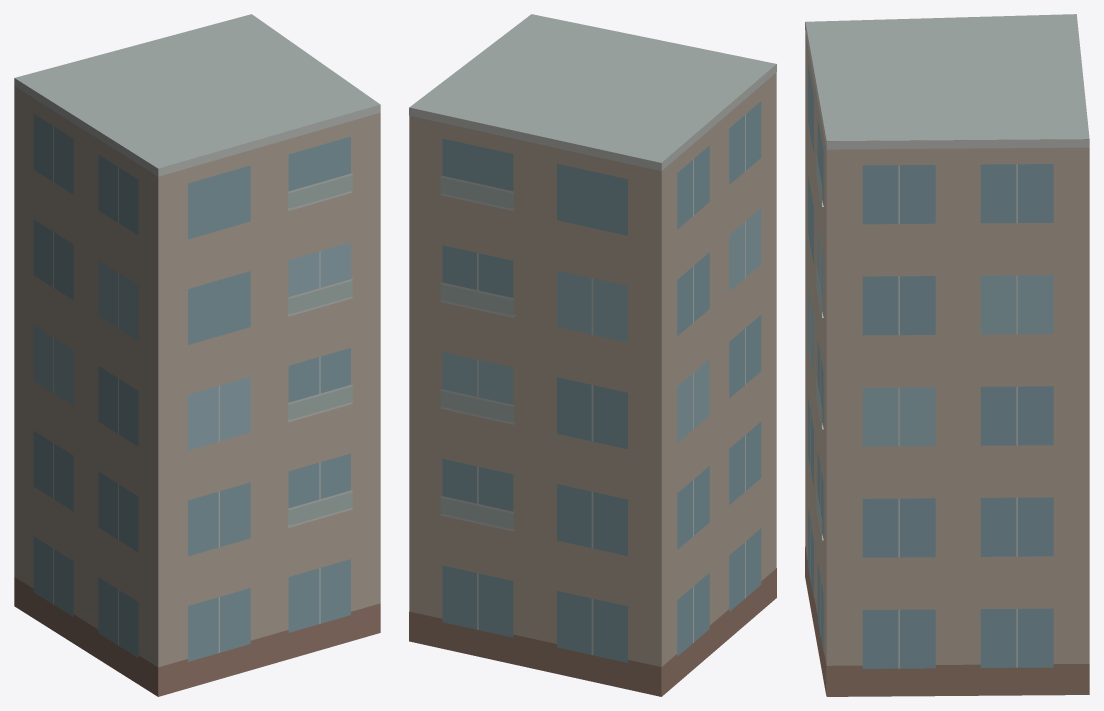
Rendered from survey-upis-32744454.glb.
3 renders of one model, left to right at view 1: azimuth 30°, elevation 25°; view 2: azimuth 150°, elevation 25°; view 3: azimuth 270°, elevation 25°, orthographic. The views are drawn at different scales.
Parts seen in each view (by area): view 1: survey-upis-32744454.tmp; view 2: survey-upis-32744454.tmp; view 3: survey-upis-32744454.tmp.
Part boxes in pixels (<box>): survey-upis-32744454.tmp: <box>14,14,380,696</box>; survey-upis-32744454.tmp: <box>409,14,776,696</box>; survey-upis-32744454.tmp: <box>805,14,1089,696</box>.
Size of the model in its own units: 7.83 by 15.95 by 7.41.
